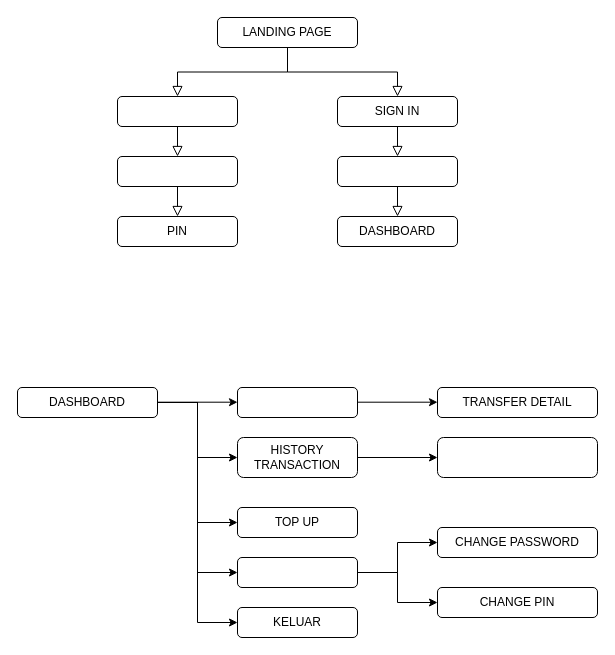
The diagram is 615 pixels wide and 655 high, and some of its shapes have lost their labels. The shapes that lost their labels are listed below. From the top down, each one's box as (x1, y1, x2, y2) in pixels, then its label:
(116, 96, 238, 126): SIGN UP
(116, 156, 238, 186): REGISTER
(336, 156, 458, 186): LOGIN
(236, 386, 358, 418): TRANSFER
(436, 436, 598, 478): HISTORY TRANSACTION DETAIL
(236, 556, 358, 588): PROFILE
